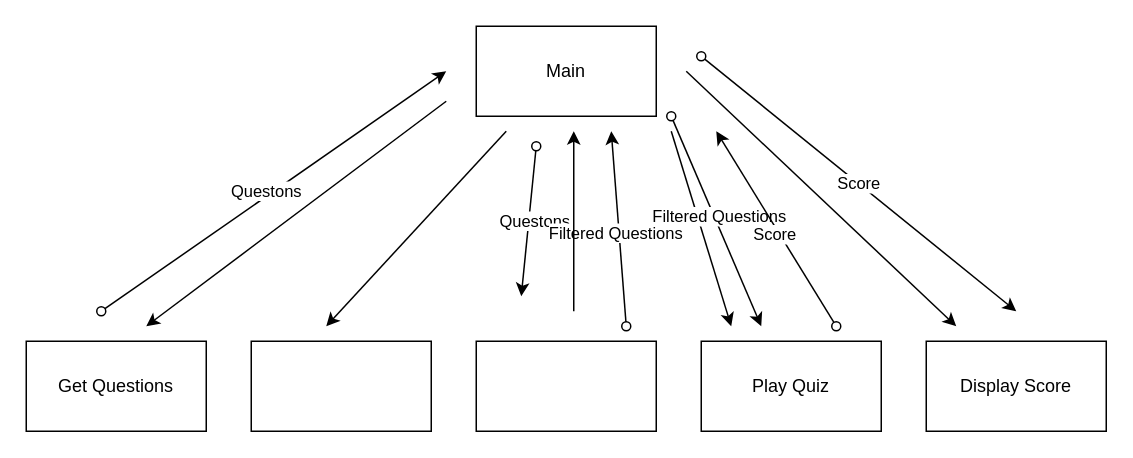
This 1133x458 diagram has some shape labels left out. The shapes that lost their labels are listed below. From the top down, each one's centre as x and y in pixels, then its label:
pixel 340 385: Quiz Intro
pixel 565 385: Filter Questions
